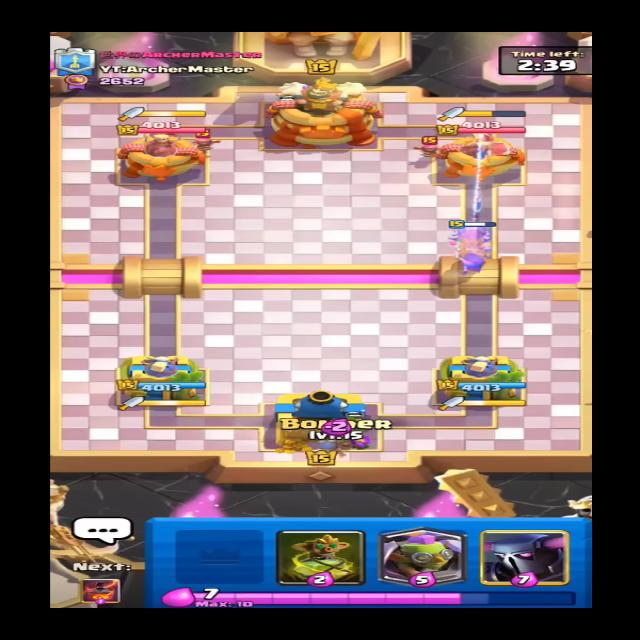archer: (186, 128, 231, 154), (414, 134, 451, 162)
